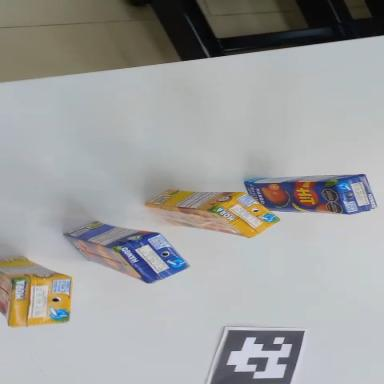HIT-MANGO: (59, 201, 195, 295), (245, 172, 376, 219)
HIT-MORA: (144, 179, 282, 241), (0, 256, 71, 327)
cara_F: (59, 235, 154, 283), (245, 180, 348, 214), (146, 206, 249, 237), (0, 273, 13, 325)
